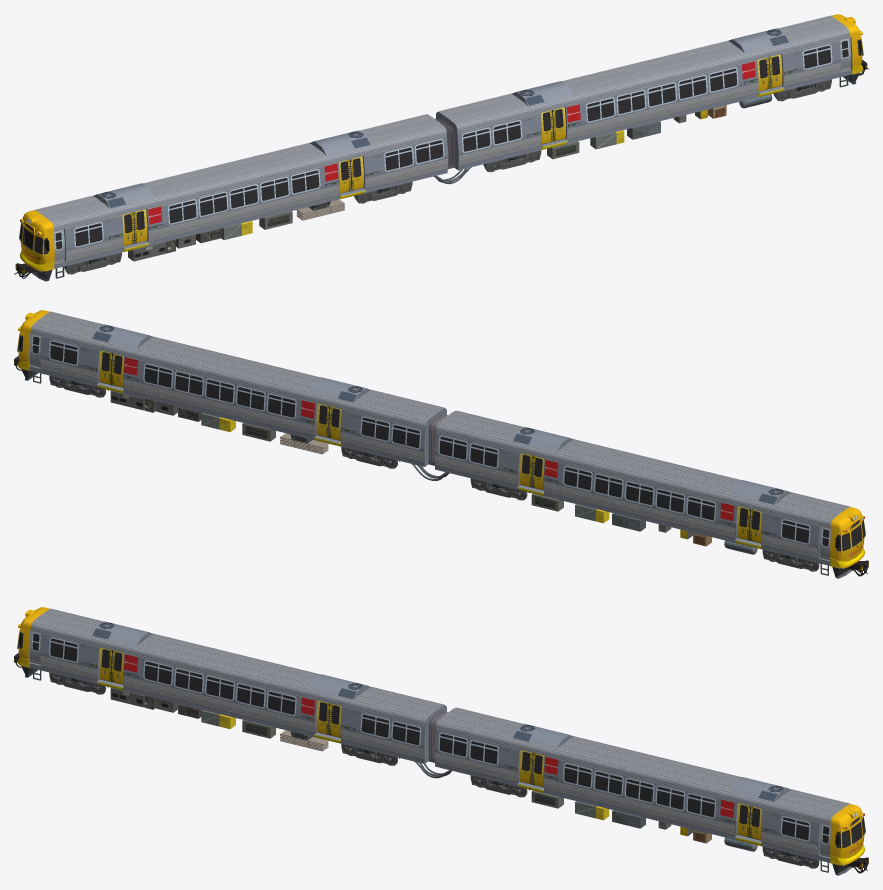
Rendered from train_high.glb.
3 renders of one model, top to bottom at view 1: azimuth 30°, elevation 25°; view 2: azimuth 150°, elevation 25°; view 3: azimuth 330°, elevation 25°, orthographic.
Visible parts, largest first — view 1: Cube.022_Cube.000_Cube.022_Cube.001, Cube.022_Cube.000_Cube.022_Cube.003; view 2: Cube.022_Cube.000_Cube.022_Cube.001, Cube.022_Cube.000_Cube.022_Cube.003; view 3: Cube.022_Cube.000_Cube.022_Cube.003, Cube.022_Cube.000_Cube.022_Cube.001.
Boxes of the visible parts, <box> form: Cube.022_Cube.000_Cube.022_Cube.001: <box>14,114,452,281</box>; Cube.022_Cube.000_Cube.022_Cube.003: <box>435,14,868,172</box>; Cube.022_Cube.000_Cube.022_Cube.001: <box>430,410,868,578</box>; Cube.022_Cube.000_Cube.022_Cube.003: <box>14,310,447,468</box>; Cube.022_Cube.000_Cube.022_Cube.003: <box>430,707,868,875</box>; Cube.022_Cube.000_Cube.022_Cube.001: <box>14,607,447,765</box>.
Size of the model in its own units: 218 by 15.9 by 12.02.
Materials: 5 (5 with a texture image).
